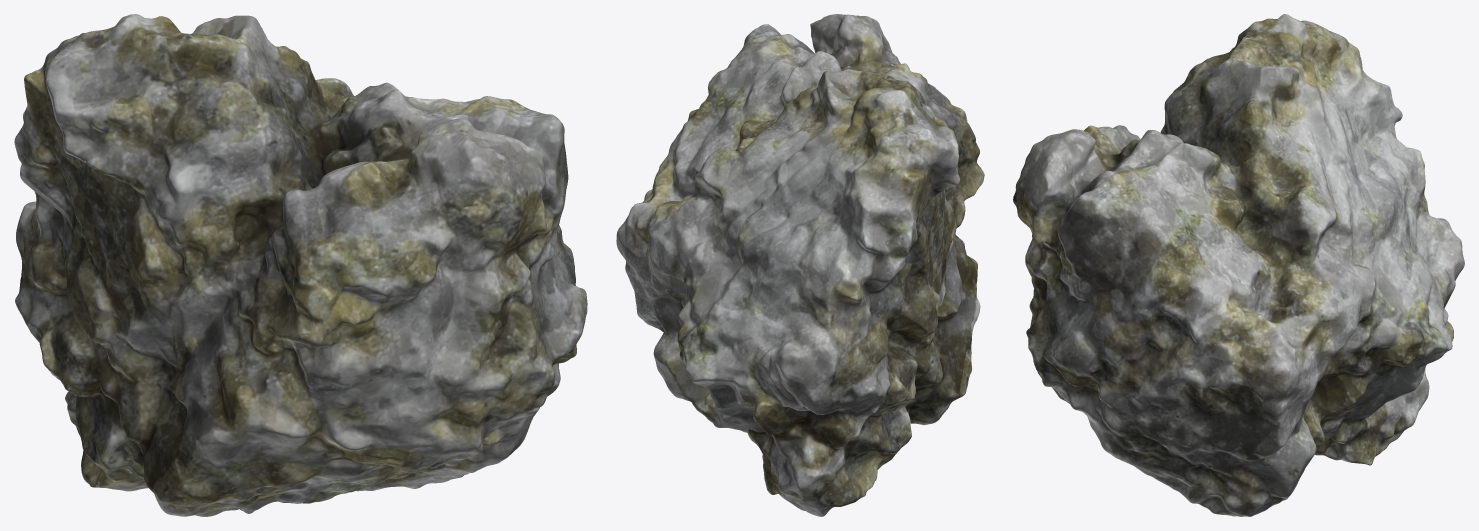
File: rock-76535.glb
The picture shows the model from 3 angles, left to right: view 1: azimuth 30°, elevation 25°; view 2: azimuth 150°, elevation 25°; view 3: azimuth 270°, elevation 25°; orthographic projection. The views are drawn at different scales.
Size of the model in its own units: 0.0188 by 0.0213 by 0.0209.
Materials: 1 (1 with a texture image).
